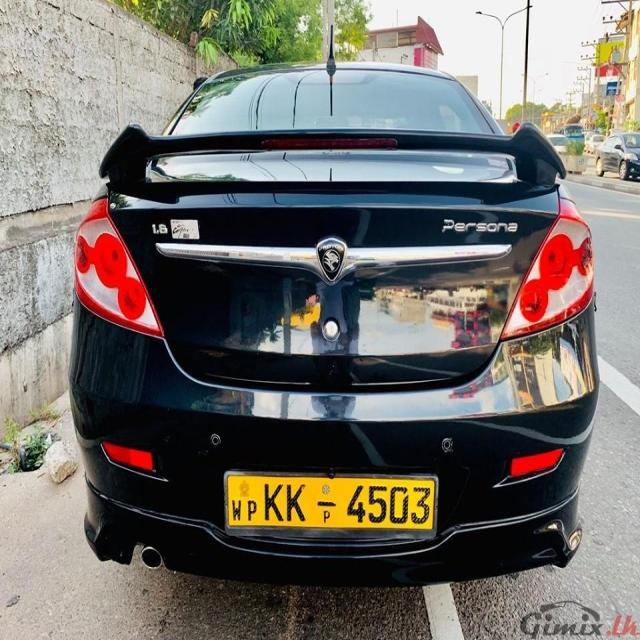license-plate: (227, 474, 433, 530)
